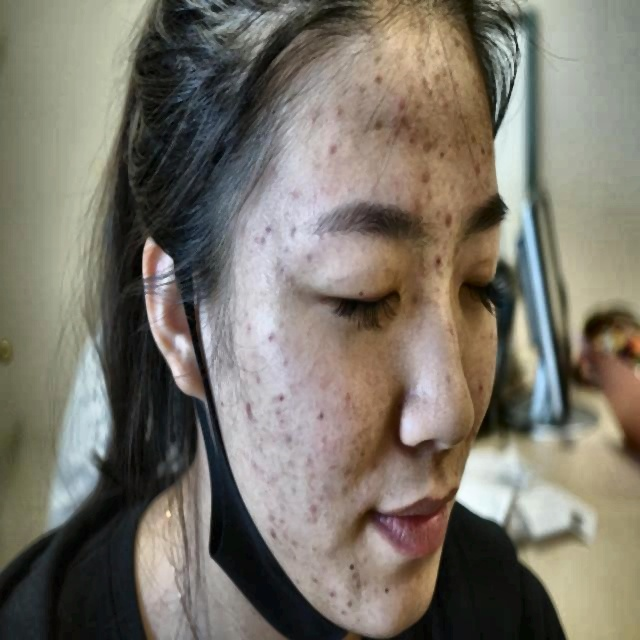papule: (301, 436, 333, 495), (391, 94, 424, 133), (440, 200, 464, 234), (370, 110, 391, 148), (318, 578, 342, 609), (238, 394, 259, 429), (426, 245, 444, 280), (265, 317, 281, 353), (328, 136, 347, 166), (306, 490, 324, 521), (318, 480, 344, 501), (415, 164, 434, 188), (418, 131, 437, 154), (352, 574, 370, 598), (404, 121, 421, 146), (372, 61, 384, 87), (260, 222, 272, 248), (332, 100, 346, 122), (341, 602, 357, 619), (244, 449, 256, 470), (268, 521, 280, 542)
